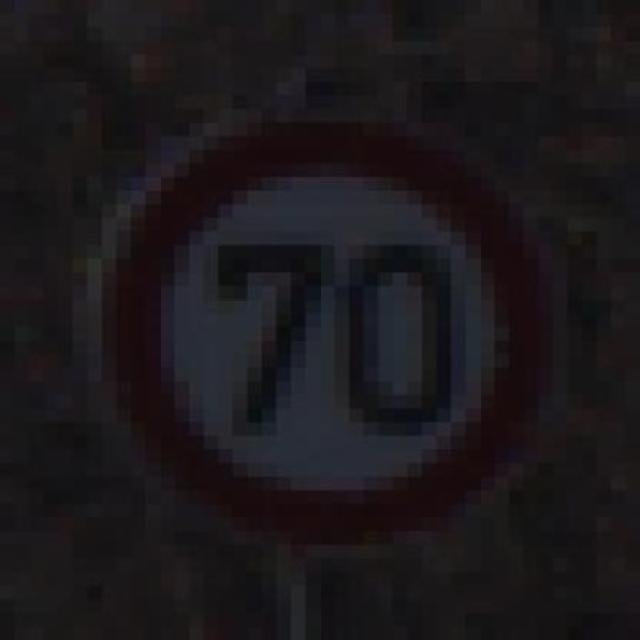forb_speed_over_70: (109, 119, 546, 542)
